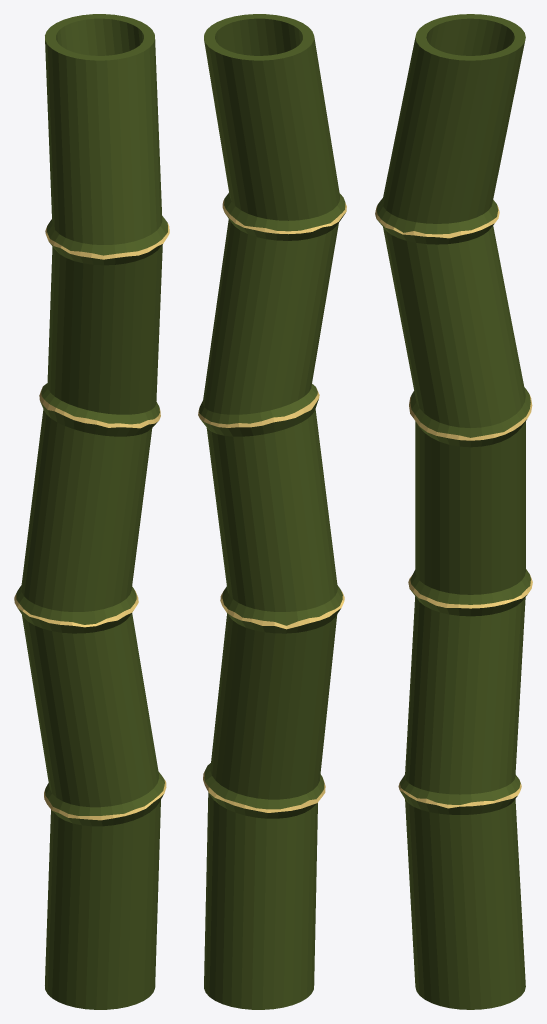
The model's file is bamboo.fbx.
3 views of the same model, side by side, from view 1: azimuth 30°, elevation 25°; view 2: azimuth 150°, elevation 25°; view 3: azimuth 270°, elevation 25° (orthographic).
Visible parts, largest first — view 1: Circle; view 2: Circle; view 3: Circle.
Boxes of the visible parts, x1=… form: Circle: x1=14, y1=14, x2=169, y2=1009; Circle: x1=198, y1=14, x2=346, y2=1009; Circle: x1=375, y1=14, x2=532, y2=1009.
Size of the model in its own units: 214 by 1482 by 223.
